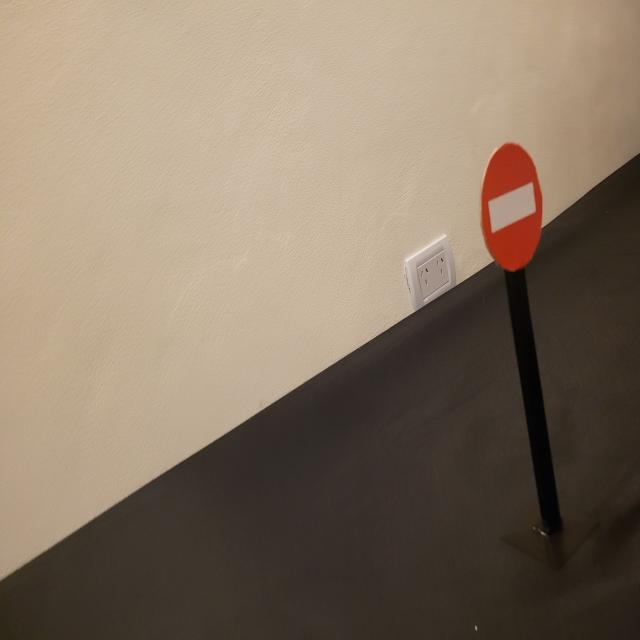no_entry: (478, 141, 544, 273)
